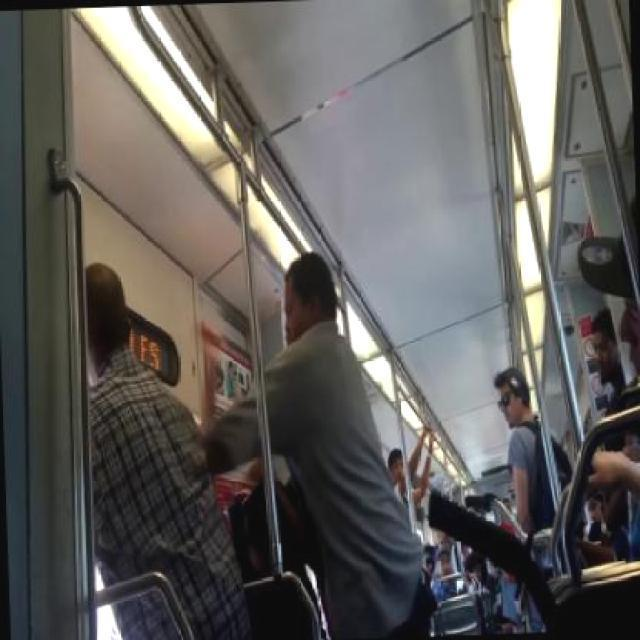fight: (86, 244, 419, 638)
non-fight: (488, 359, 572, 513)
